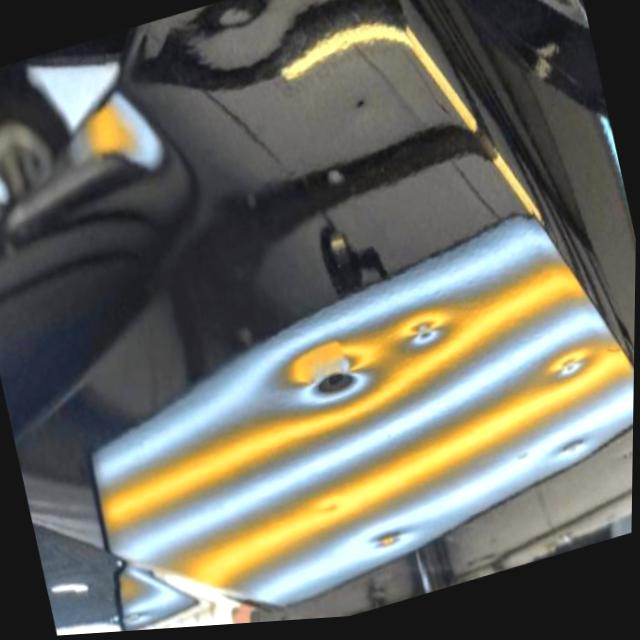Dent: (311, 367, 362, 401), (365, 524, 405, 552), (407, 319, 441, 350), (553, 354, 583, 385), (559, 432, 583, 459)
PDR-Dent: (246, 296, 486, 438), (516, 327, 606, 393), (539, 426, 596, 470), (359, 517, 417, 557)
